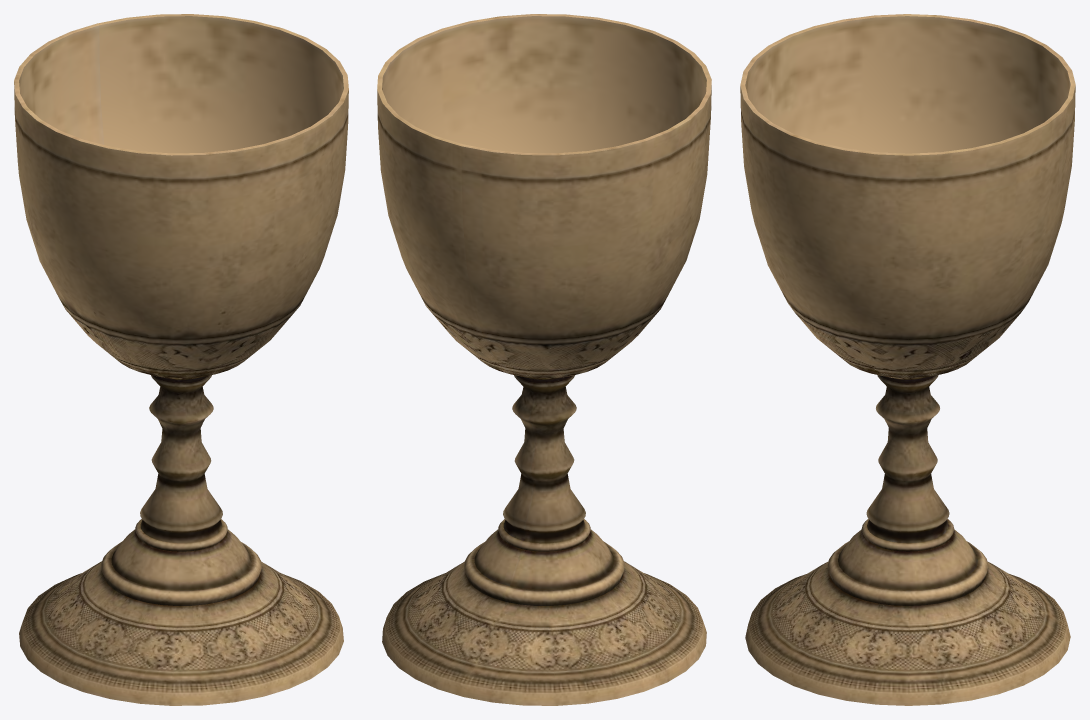
File: brass_goblets__a.glb
3 renders of one model, left to right at view 1: azimuth 30°, elevation 25°; view 2: azimuth 150°, elevation 25°; view 3: azimuth 270°, elevation 25°, orthographic.
Parts seen in each view (by area): view 1: brass_goblets_01; view 2: brass_goblets_01; view 3: brass_goblets_01.
Part boxes in pixels (left/top/right/bottom): brass_goblets_01: left=14, top=14, right=348, bottom=705; brass_goblets_01: left=377, top=14, right=711, bottom=705; brass_goblets_01: left=740, top=14, right=1075, bottom=705.
Bounding box in the file's own units: 0.1497 × 0.272 × 0.1497.
1 material, 1 textured.
